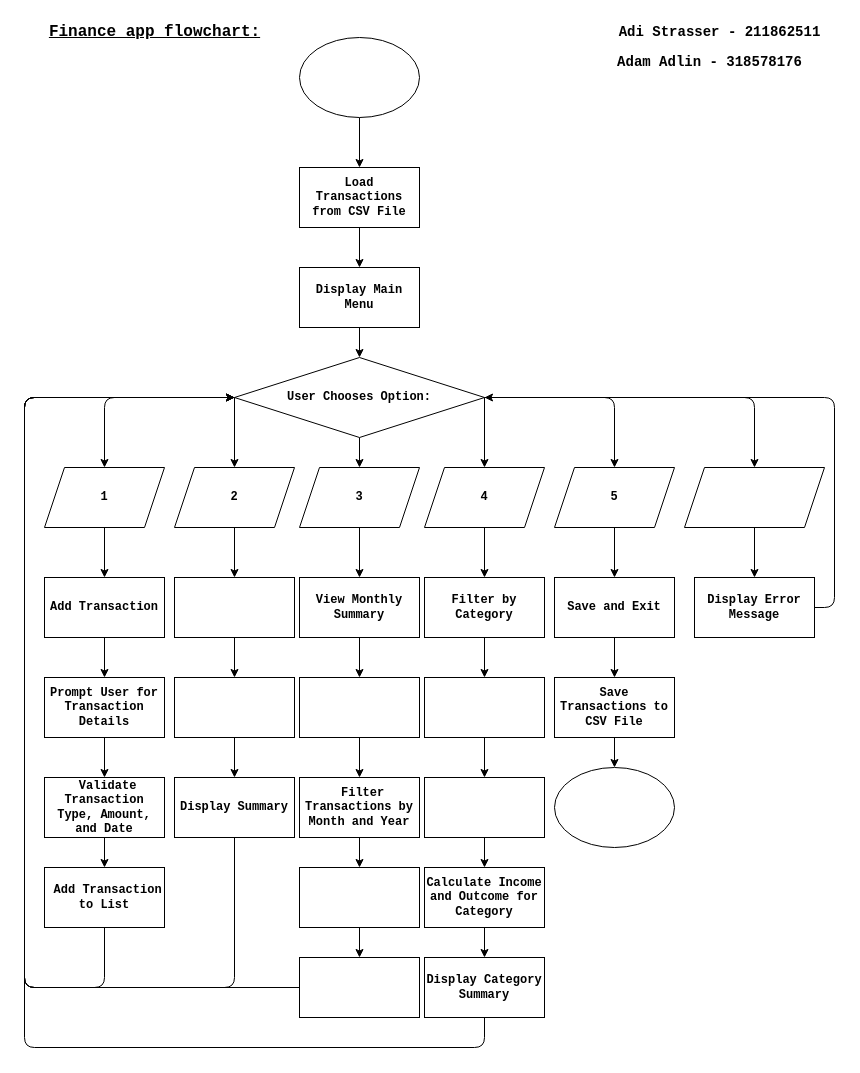
Image size: 860x1073. Some labels were removed from this diagram. Each missing label, with the box of its shape:
Calculate Monthly Income and Outcome: (298, 866, 420, 928)
Calculate Total Income, Outcome, and Balance: (174, 676, 294, 738)
Display Monthly Summary: (298, 956, 420, 1018)
END: (554, 766, 674, 848)
Filter Transactions by Category: (424, 776, 544, 838)
Invalid Choice: (684, 466, 824, 528)
Prompt User for Category: (424, 676, 544, 738)
Prompt User for Month and Year: (298, 676, 420, 738)
START: (298, 36, 420, 118)
View Summary: (174, 576, 294, 638)
